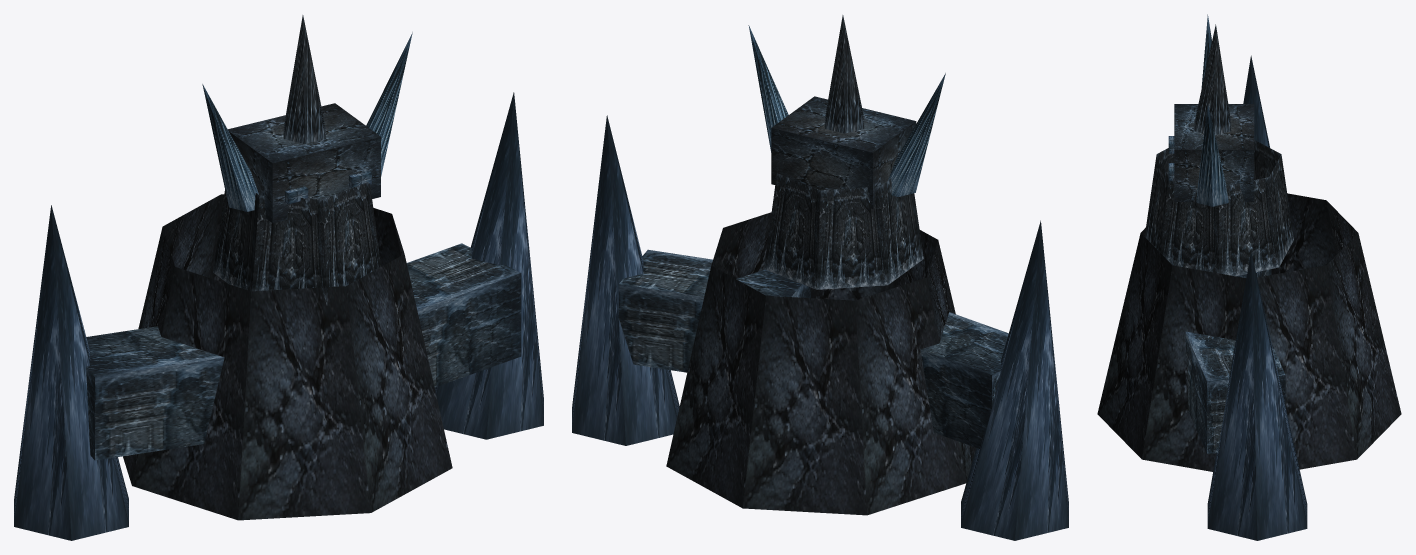
Rendered from citadel_titan_0.obj.
The picture shows the model from 3 angles, left to right: view 1: azimuth 30°, elevation 25°; view 2: azimuth 150°, elevation 25°; view 3: azimuth 270°, elevation 25°; orthographic projection. The views are drawn at different scales.
Visible parts, largest first — view 1: citadel_titan_0; view 2: citadel_titan_0; view 3: citadel_titan_0.
Part boxes in pixels (box(x1,y1,x2,y2)): citadel_titan_0: box(14, 15, 543, 540); citadel_titan_0: box(572, 15, 1068, 540); citadel_titan_0: box(1097, 14, 1401, 540).
Size of the model in its own units: 33.2 by 27.9 by 19.
1 material, 1 textured.
